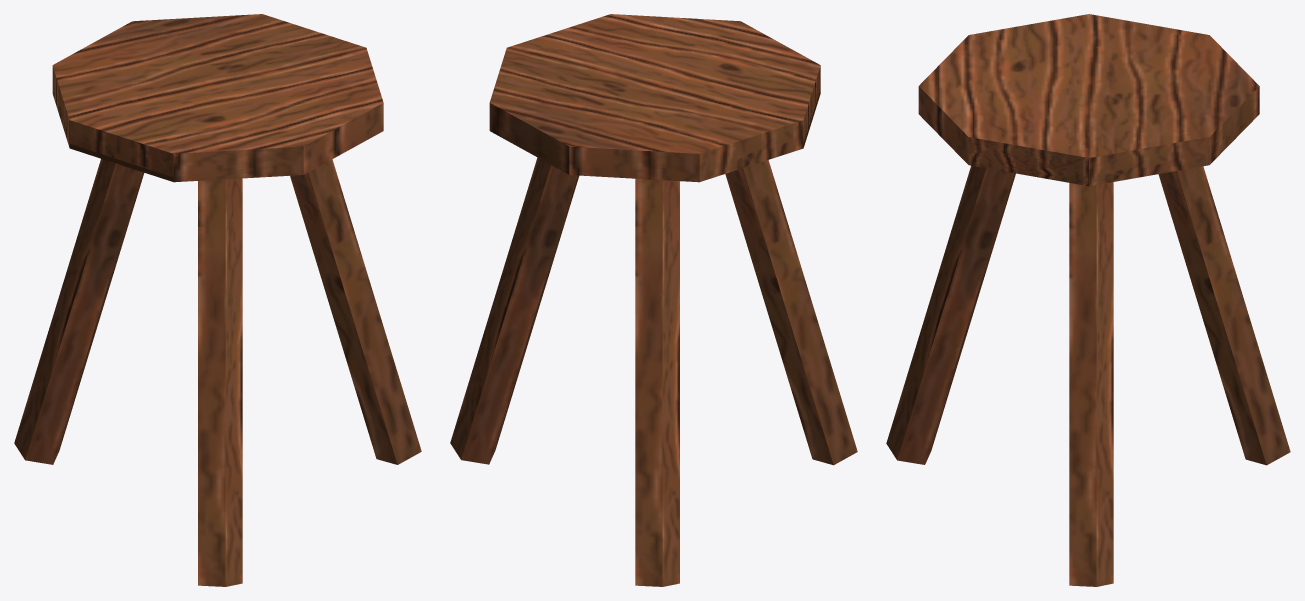
Rendered from Schemel.glb.
3 views of the same model, side by side, from view 1: azimuth 30°, elevation 25°; view 2: azimuth 150°, elevation 25°; view 3: azimuth 270°, elevation 25° (orthographic).
Parts seen in each view (by area): view 1: Cylinder.002, Cylinder.005, Cylinder.004, Cylinder.003; view 2: Cylinder.002, Cylinder.004, Cylinder.005, Cylinder.003; view 3: Cylinder.002, Cylinder.003, Cylinder.004, Cylinder.005.
Part boxes in pixels (bbox=[...]): Cylinder.002: bbox=[52, 14, 383, 182]; Cylinder.005: bbox=[198, 178, 242, 586]; Cylinder.004: bbox=[14, 159, 144, 464]; Cylinder.003: bbox=[290, 159, 421, 464]; Cylinder.002: bbox=[489, 14, 820, 182]; Cylinder.004: bbox=[635, 178, 679, 586]; Cylinder.005: bbox=[725, 160, 857, 465]; Cylinder.003: bbox=[450, 157, 579, 464]; Cylinder.002: bbox=[918, 14, 1259, 186]; Cylinder.003: bbox=[1069, 182, 1113, 586]; Cylinder.004: bbox=[1158, 166, 1290, 465]; Cylinder.005: bbox=[886, 165, 1015, 464].
Size of the model in its own units: 2.36 by 2.69 by 2.37.
Materials: 1 (1 with a texture image).
